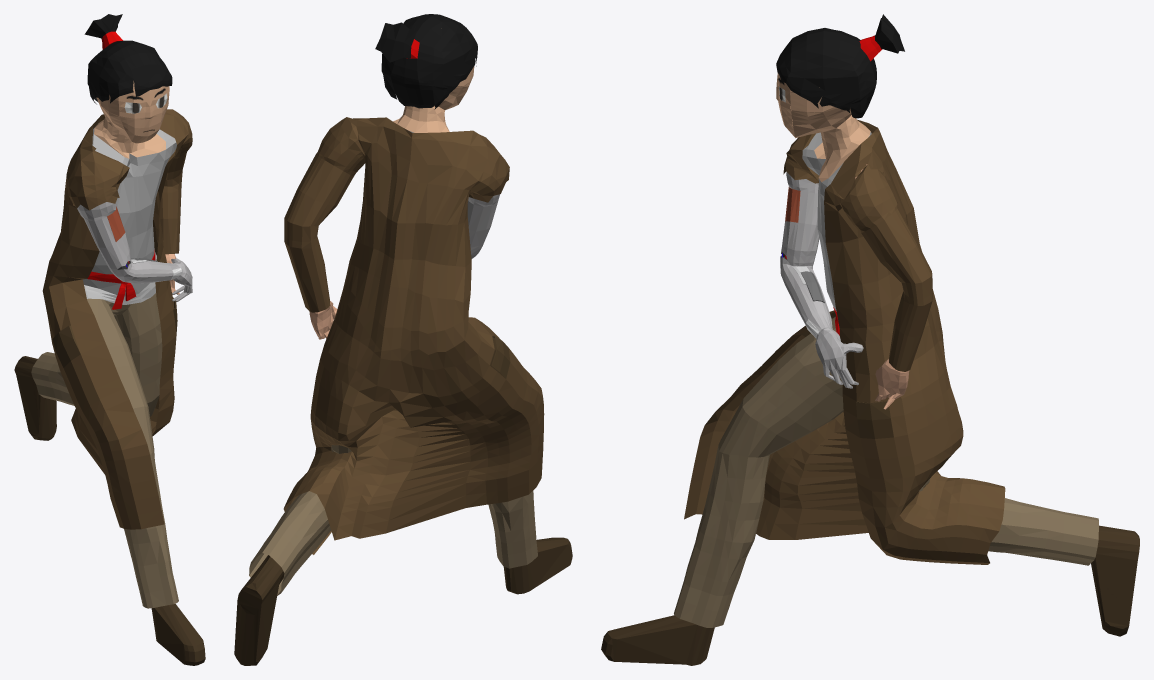
The model's file is One_RF_000003.obj.
3 renders of one model, left to right at view 1: azimuth 30°, elevation 25°; view 2: azimuth 150°, elevation 25°; view 3: azimuth 270°, elevation 25°, orthographic. The views are drawn at different scales.
Parts seen in each view (by area): view 1: Hair_Cube.004; view 2: Hair_Cube.004; view 3: Hair_Cube.004.
Boxes of the visible parts, box(x1,y1,x2,y2) form: Hair_Cube.004: box(14, 14, 205, 665); Hair_Cube.004: box(234, 14, 572, 665); Hair_Cube.004: box(601, 14, 1139, 665).
Bounding box in the file's own units: 1.09 × 3.67 × 2.73.
